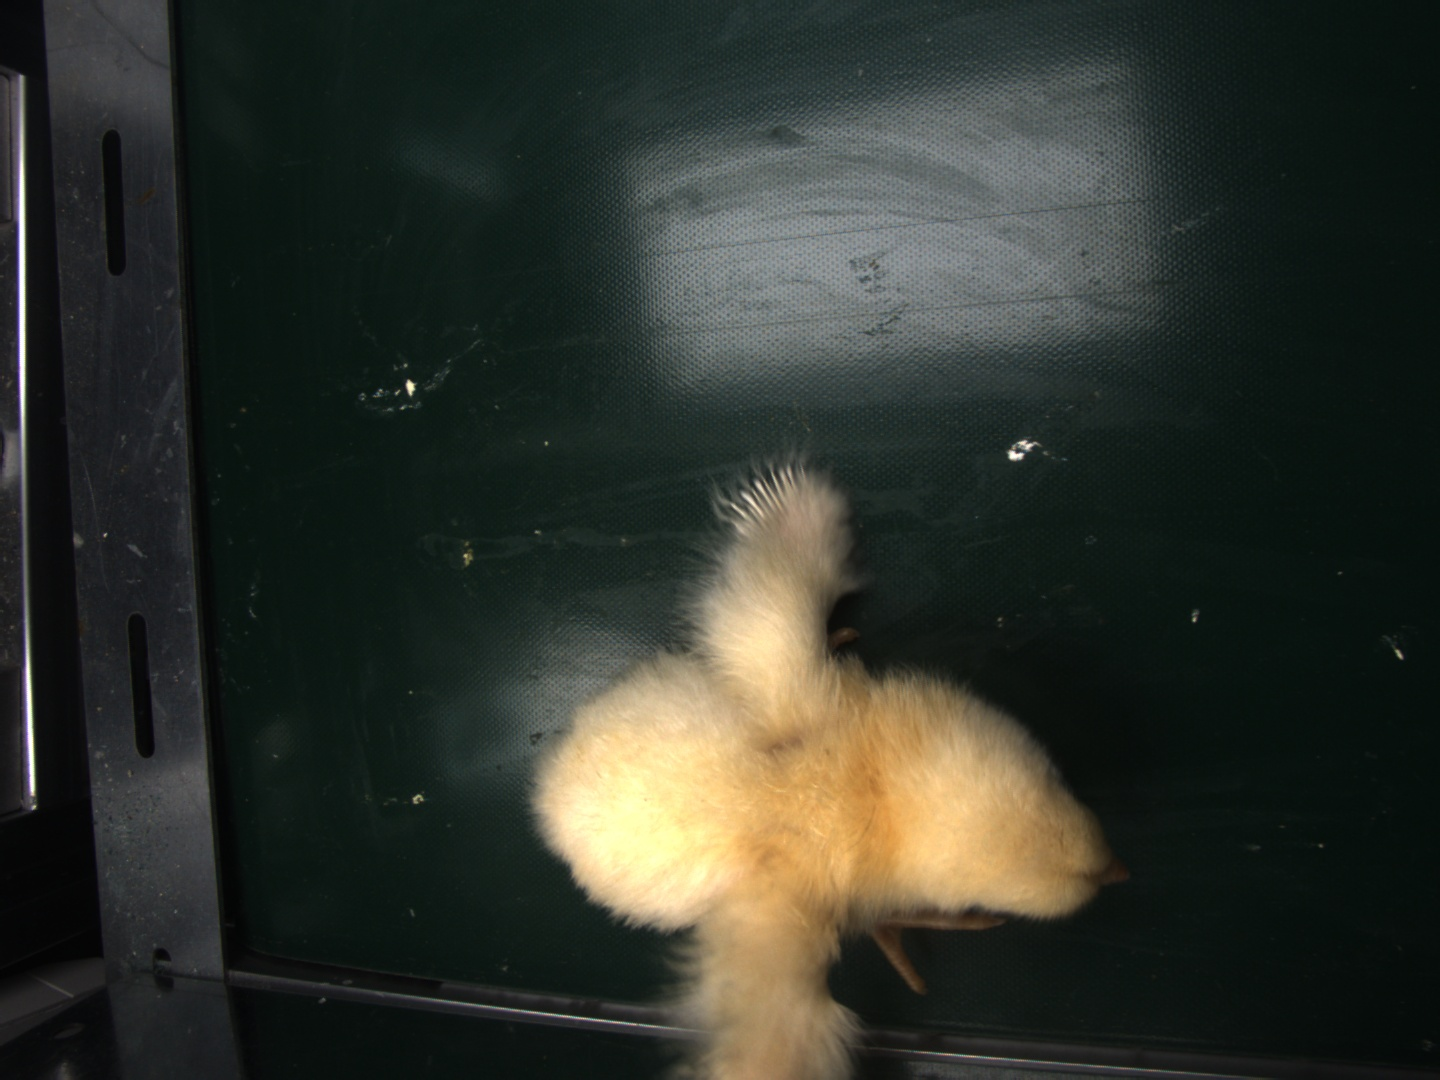male: (728, 464, 813, 529)
